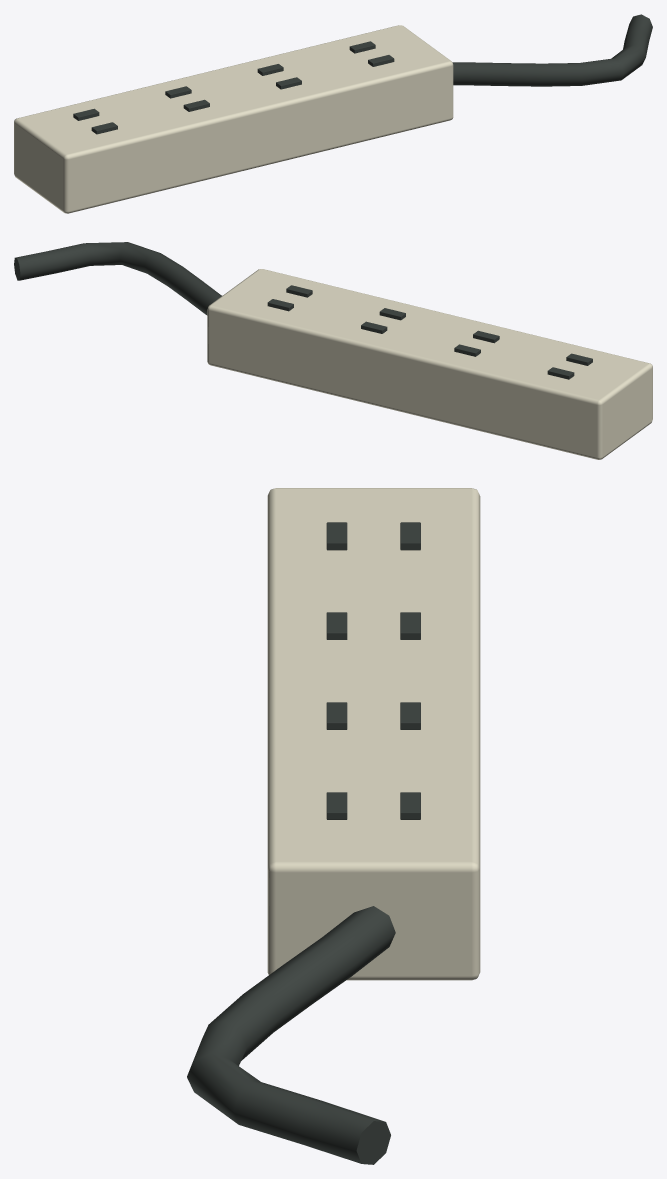
The model's file is scavengers-loot-library-extension-socket-8b41b808__2522.glb.
3 views of the same model, one above another, from view 1: azimuth 30°, elevation 25°; view 2: azimuth 150°, elevation 25°; view 3: azimuth 270°, elevation 25° (orthographic). The views are drawn at different scales.
Visible parts, largest first — view 1: extension-socket; view 2: extension-socket; view 3: extension-socket.
Part boxes in pixels (x1=…): extension-socket: x1=14, y1=14, x2=652, y2=213; extension-socket: x1=14, y1=242, x2=652, y2=459; extension-socket: x1=187, y1=488, x2=480, y2=1164.
Bounding box in the file's own units: 0.3442 × 0.034 × 0.0717.
